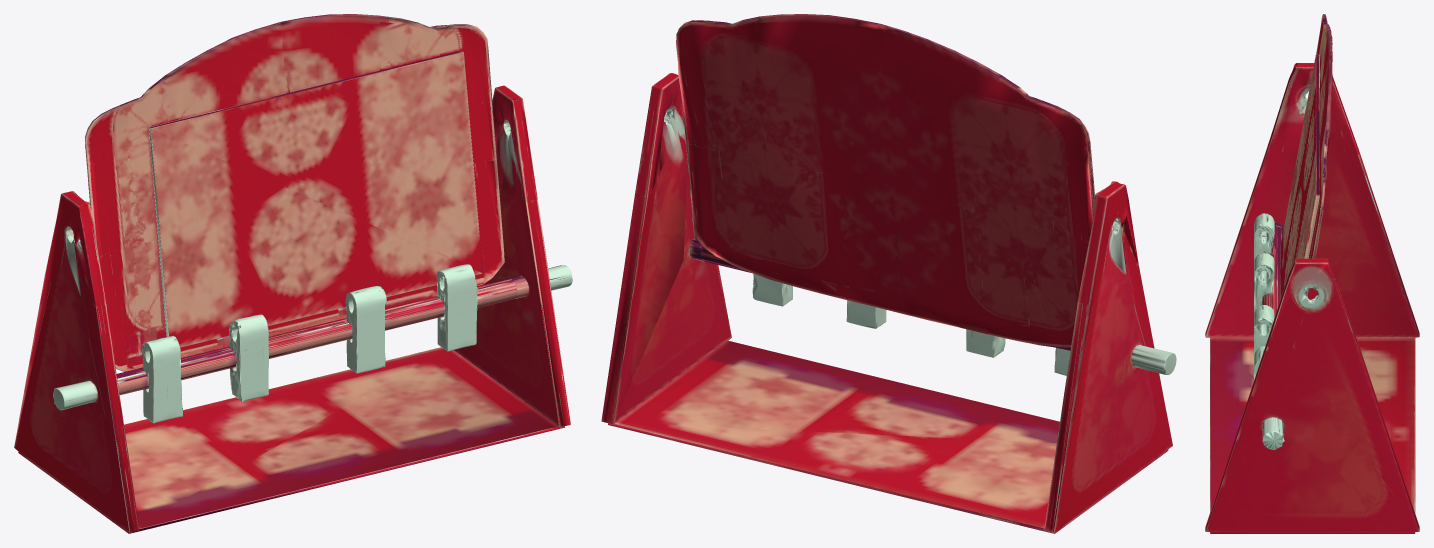
The model's file is StarlightDryingRail_Textured.fbx.
The picture shows the model from 3 angles, left to right: view 1: azimuth 30°, elevation 25°; view 2: azimuth 150°, elevation 25°; view 3: azimuth 270°, elevation 25°; orthographic projection. The views are drawn at different scales.
Visible parts, largest first — view 1: Mesh_0; view 2: Mesh_0; view 3: Mesh_0.
Boxes of the visible parts, x1,y1,x2,y2 form: Mesh_0: (14,14,572,533); Mesh_0: (601,14,1176,533); Mesh_0: (1205,14,1419,533).
Size of the model in its own units: 95.7 by 73.88 by 37.74.
1 material, 1 textured.
